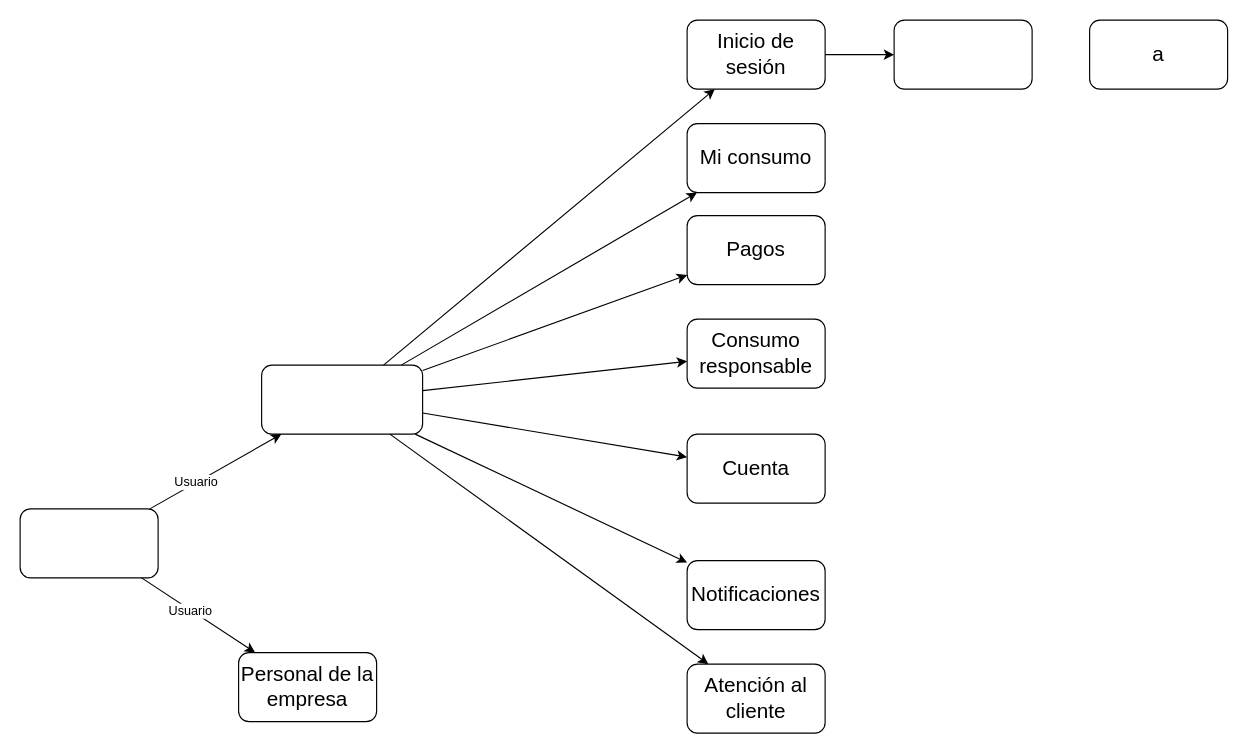
This 1248x753 diagram has some shape labels left out. Each missing label, with the centre of its shape:
Consumidores: (341,399)
Ingreso a la aplicación: (88,543)
Registro: (962,54)
